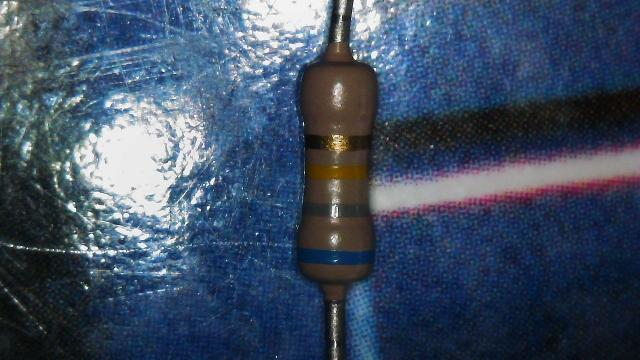blue: (296, 248, 374, 264)
gold: (302, 135, 372, 150)
grey: (302, 203, 370, 215)
resistor: (263, 27, 407, 313)
yellow: (306, 164, 368, 178)
